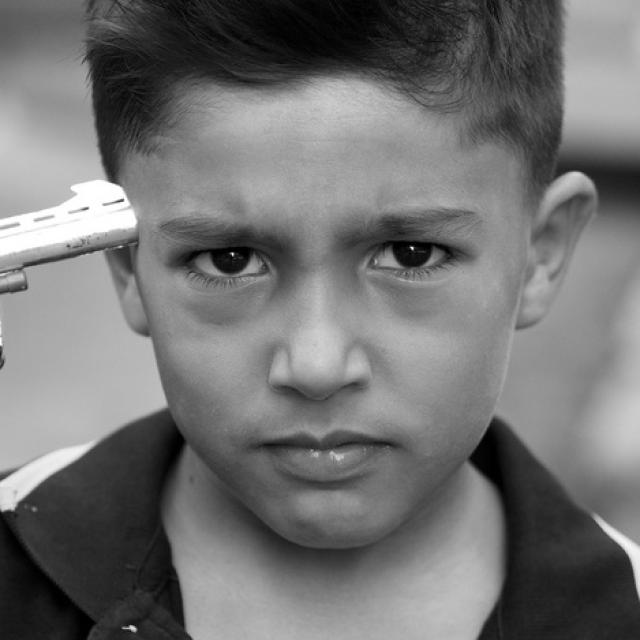Depress: (121, 80, 522, 559)
